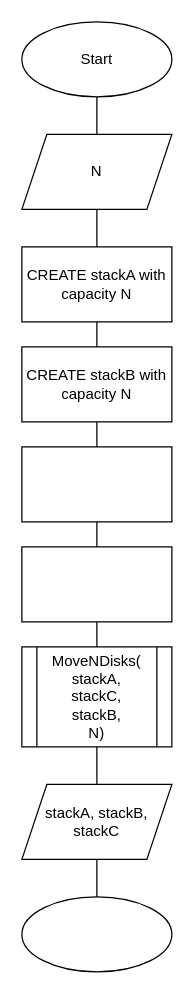
Image size: 194x994. Some labels were removed from this diagram. Each missing label, with the box of its shape:
CREATE stackC with capacity N: (21, 446, 172, 522)
End: (21, 896, 172, 972)
FILL stackA with N disks: (21, 546, 172, 622)
